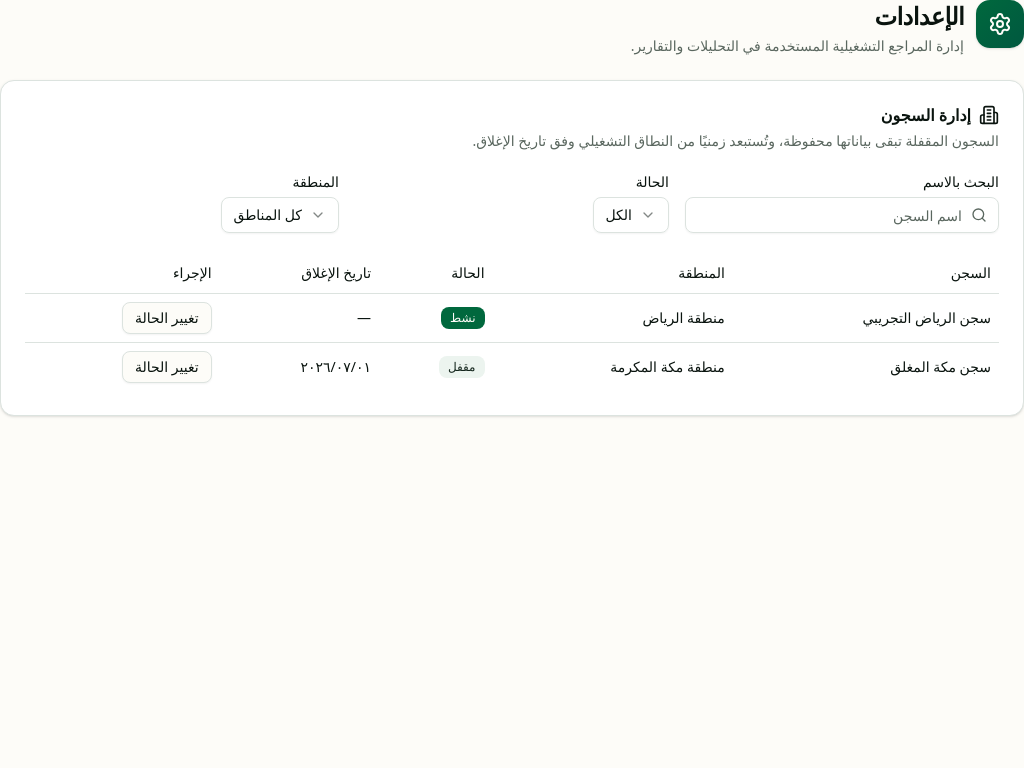
Test: Settings facility management › loads rows, searches by name, confirms closure with a date, and updates locally
The width and height of the screenshot is (1024, 768).
Expected: the text "سجن الرياض التجريبي" is shown, x1=733 y1=293 x2=999 y2=342
Type "مكة" into the field labelled "البحث بالاسم" at (842, 215), box x1=685 y1=197 x2=999 y2=233
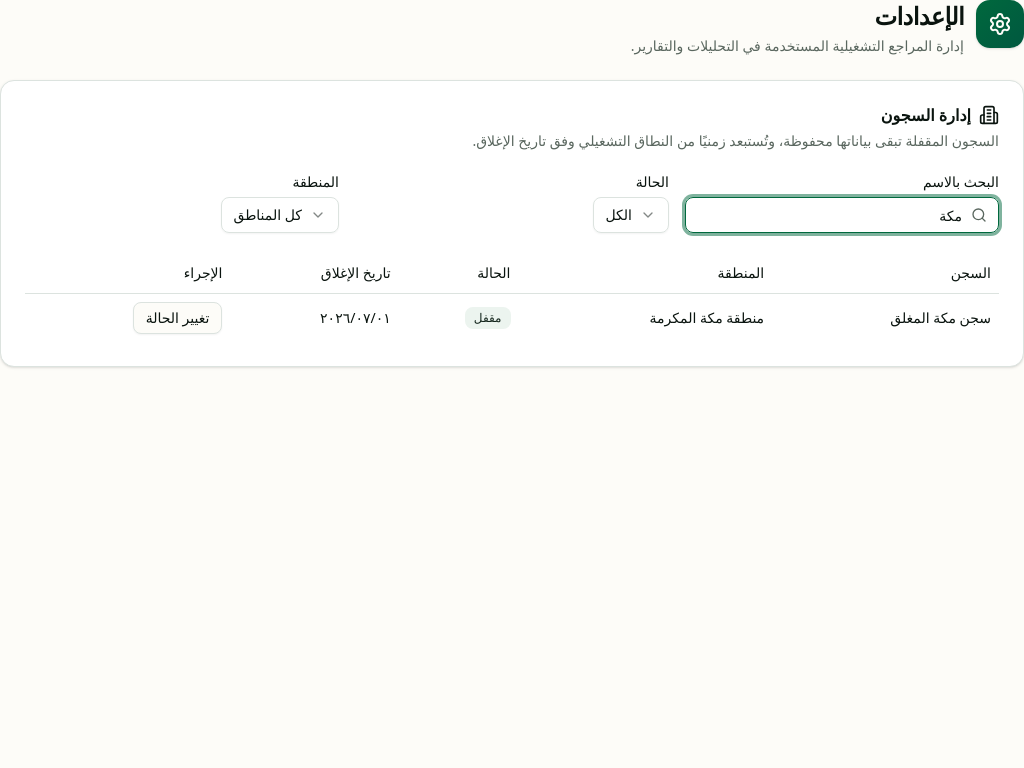
Expected: the text "سجن مكة المغلق" is shown, x1=772 y1=293 x2=999 y2=342
Result: the text "سجن الرياض التجريبي" is gone
Clear the field labelled "البحث بالاسم" at (842, 215), box x1=685 y1=197 x2=999 y2=233
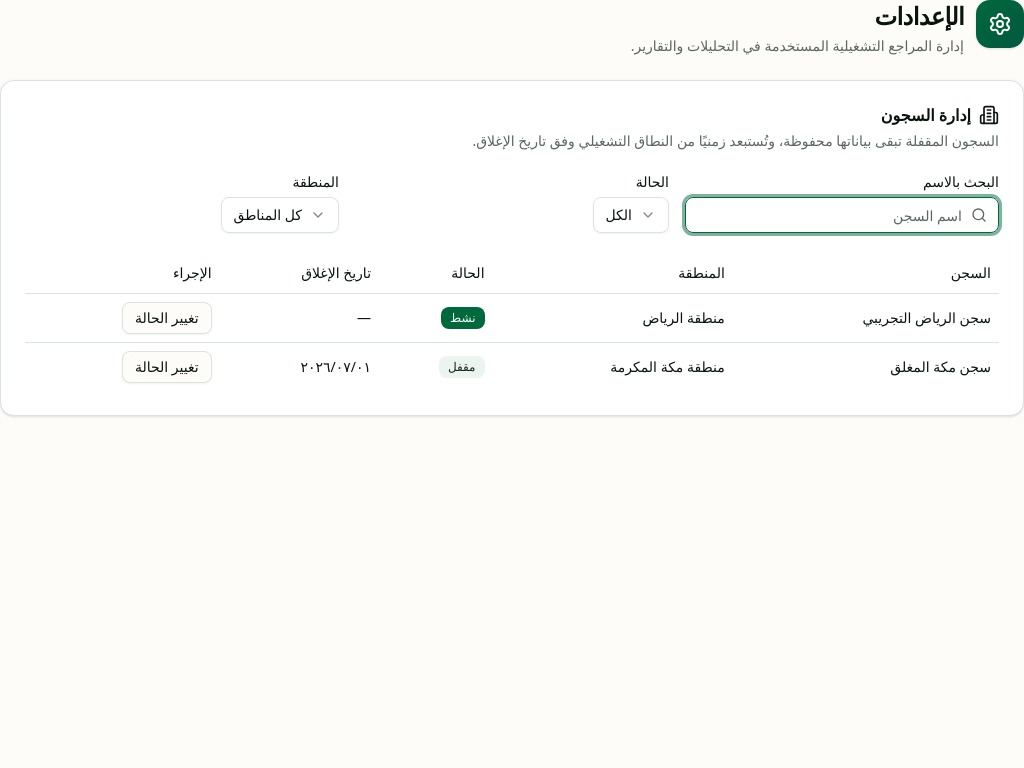
Result: the text "سجن الرياض التجريبي" is shown at x1=862 y1=308 x2=991 y2=326
Click the button "تغيير الحالة" in the row of "سجن الرياض التجريبي" at (167, 318), box x1=122 y1=302 x2=212 y2=334
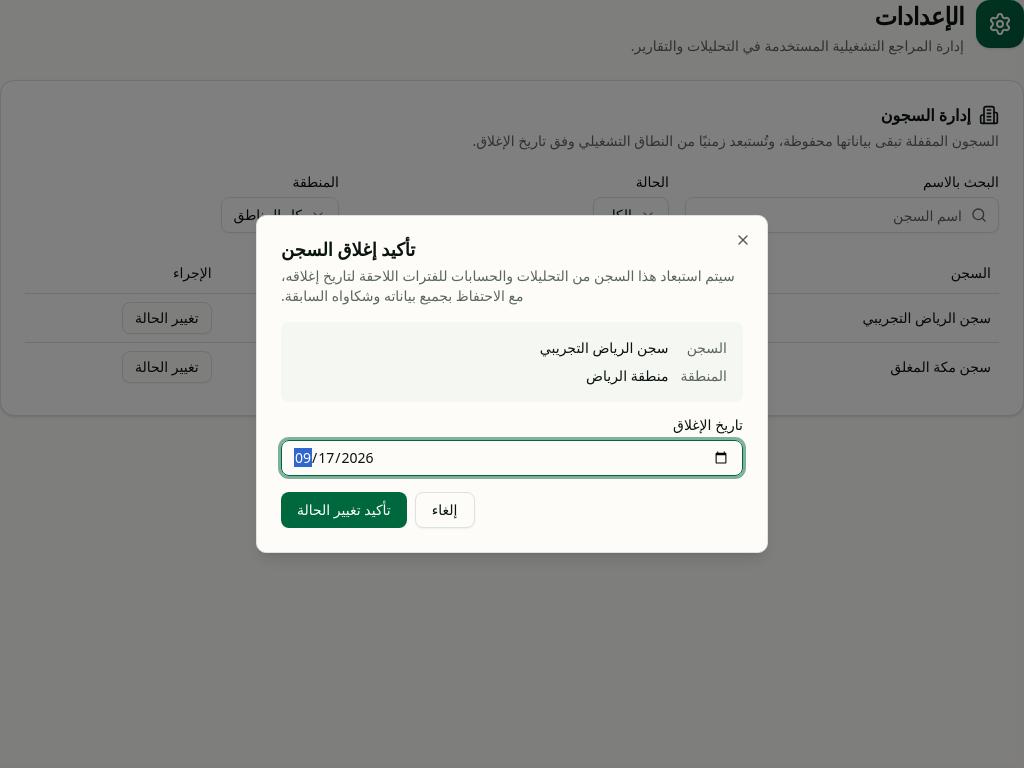
Result: the dialog shows "سيتم استبعاد هذا السجن من التحليلات" at x1=281 y1=266 x2=735 y2=305
Type "2026-08-09" into the date field labelled "تاريخ الإغلاق" at (512, 458), box x1=281 y1=440 x2=743 y2=476
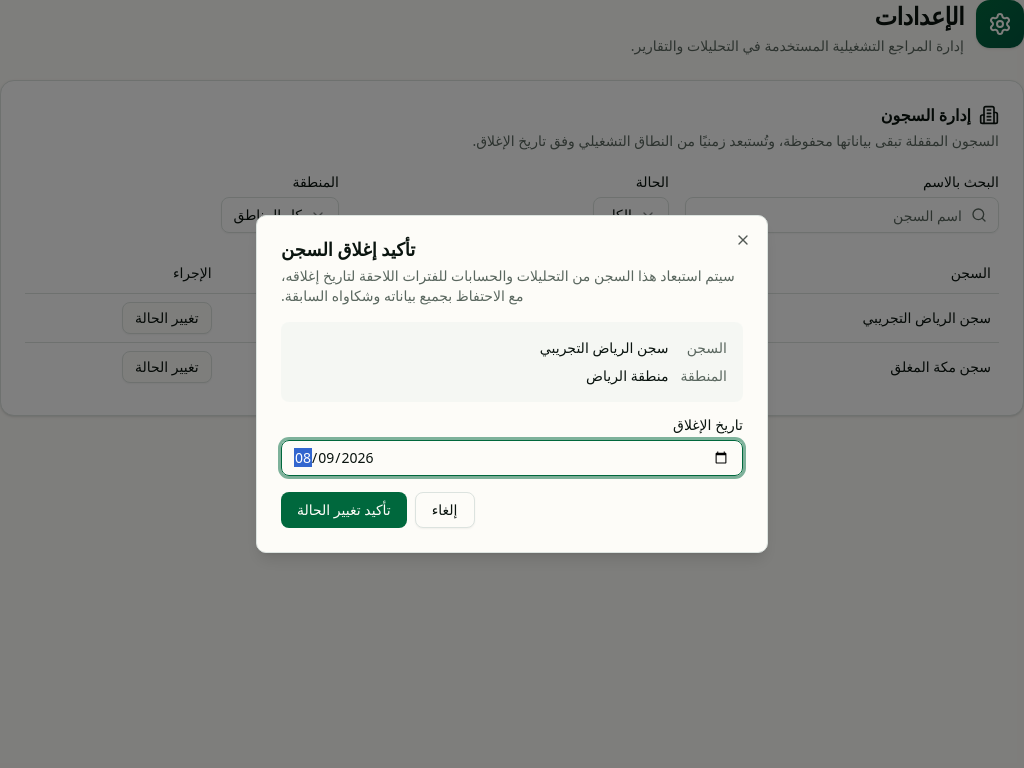
Click the button "تأكيد تغيير الحالة" at (344, 510), box x1=281 y1=492 x2=407 y2=528
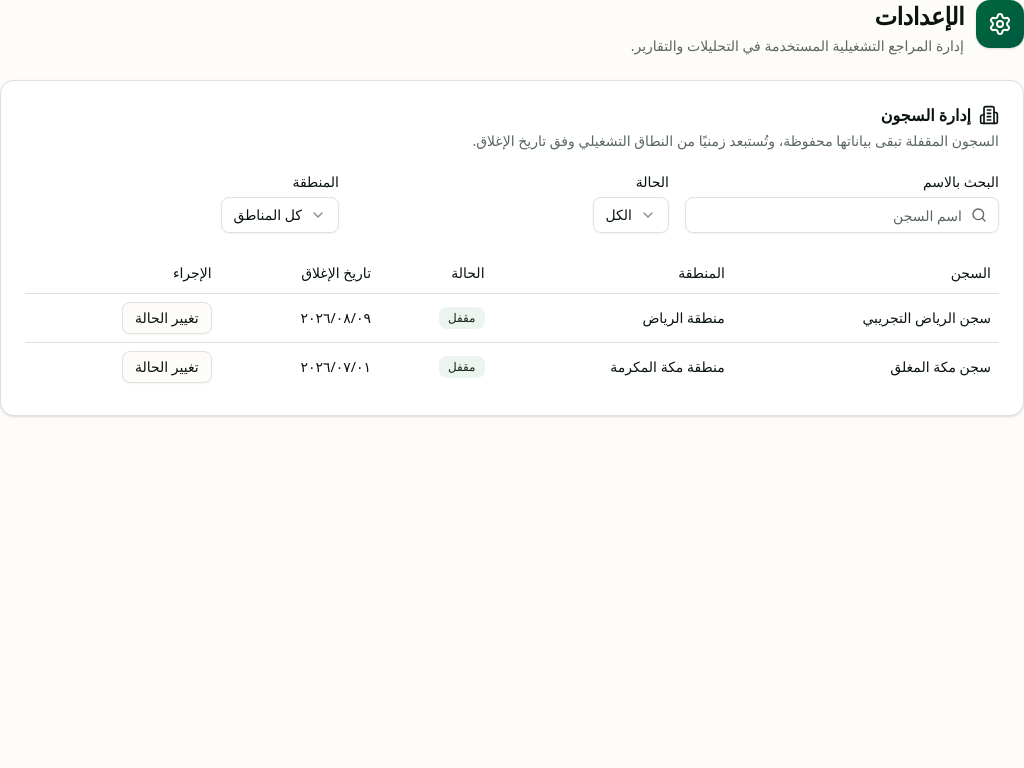
Result: the text "سجن الرياض التجريبي" is shown at x1=733 y1=293 x2=999 y2=342
Result: the text "مقفل" in the row of "سجن الرياض التجريبي" is shown at x1=448 y1=308 x2=476 y2=326
